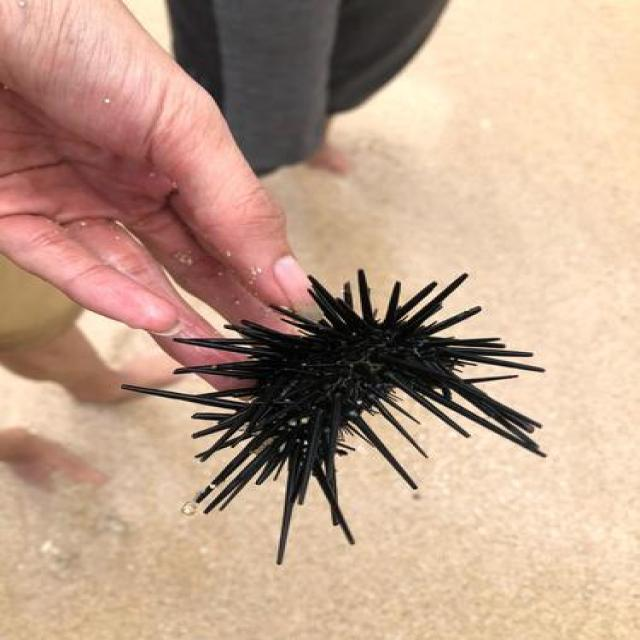Urchin: (118, 270, 553, 571)
